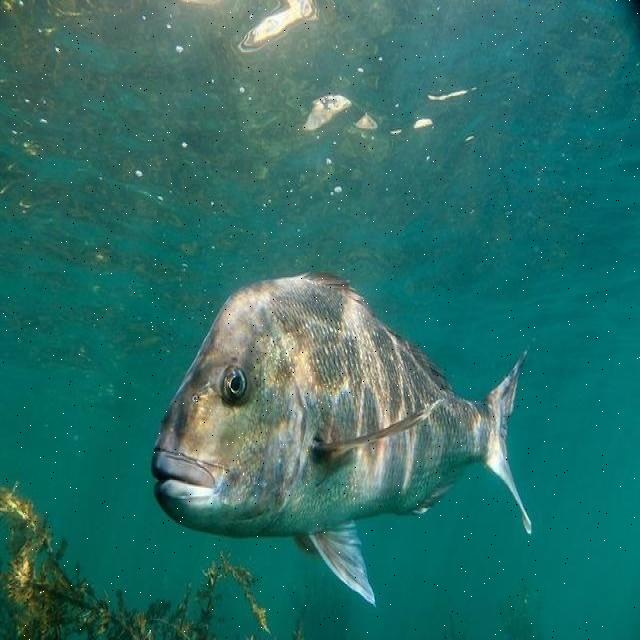aquatic plants: (0, 484, 262, 639)
fish: (152, 275, 533, 605)
